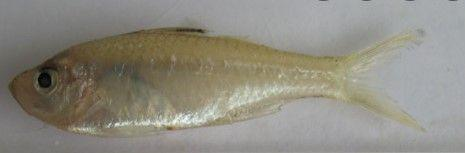Glass Perchlet: (11, 24, 433, 138)
